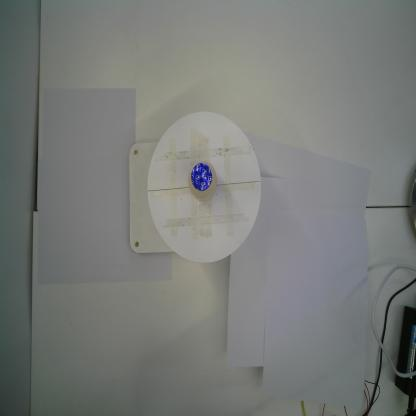Milk: (187, 158, 219, 204)
